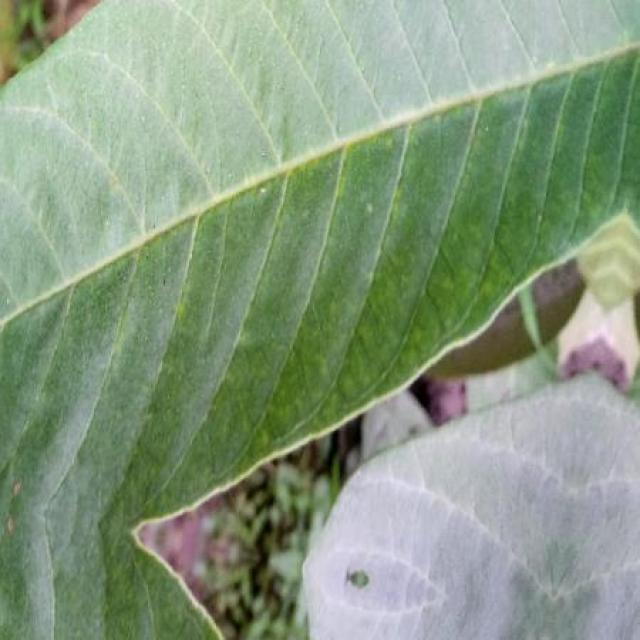Disease Free: (0, 2, 640, 640)
